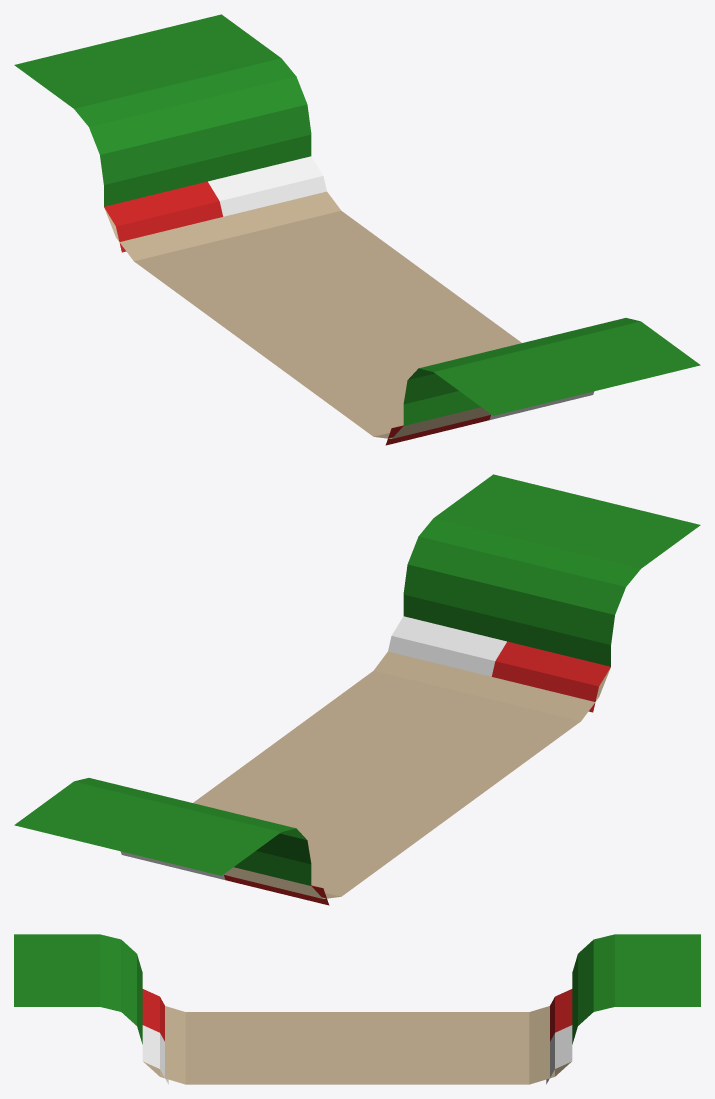
Rendered from Track_Striped_Straight_Double.obj.
3 renders of one model, top to bottom at view 1: azimuth 30°, elevation 25°; view 2: azimuth 150°, elevation 25°; view 3: azimuth 270°, elevation 25°, orthographic. The views are drawn at different scales.
Visible parts, largest first — view 1: Grass, Dirt, Raceline_Color_2, Raceline_Color_1; view 2: Grass, Dirt, Raceline_Color_2, Raceline_Color_1; view 3: Dirt, Grass, Raceline_Color_1, Raceline_Color_2.
Part boxes in pixels (x1,y1,x2,y2): Grass: (14, 14, 700, 425); Dirt: (104, 191, 521, 438); Raceline_Color_2: (104, 181, 490, 445); Raceline_Color_1: (208, 156, 594, 420); Grass: (14, 474, 700, 885); Dirt: (193, 651, 610, 898); Raceline_Color_2: (224, 641, 610, 905); Raceline_Color_1: (120, 616, 506, 880); Dirt: (143, 1006, 571, 1084); Grass: (14, 934, 700, 1044); Raceline_Color_1: (142, 1025, 572, 1084); Raceline_Color_2: (142, 989, 572, 1041).
Bounding box in the file's own units: 1 × 0.5 × 4.
